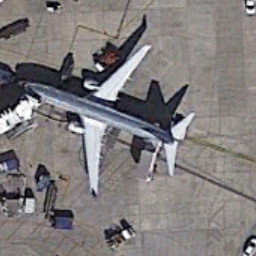Airplane: (14, 28, 203, 204)
